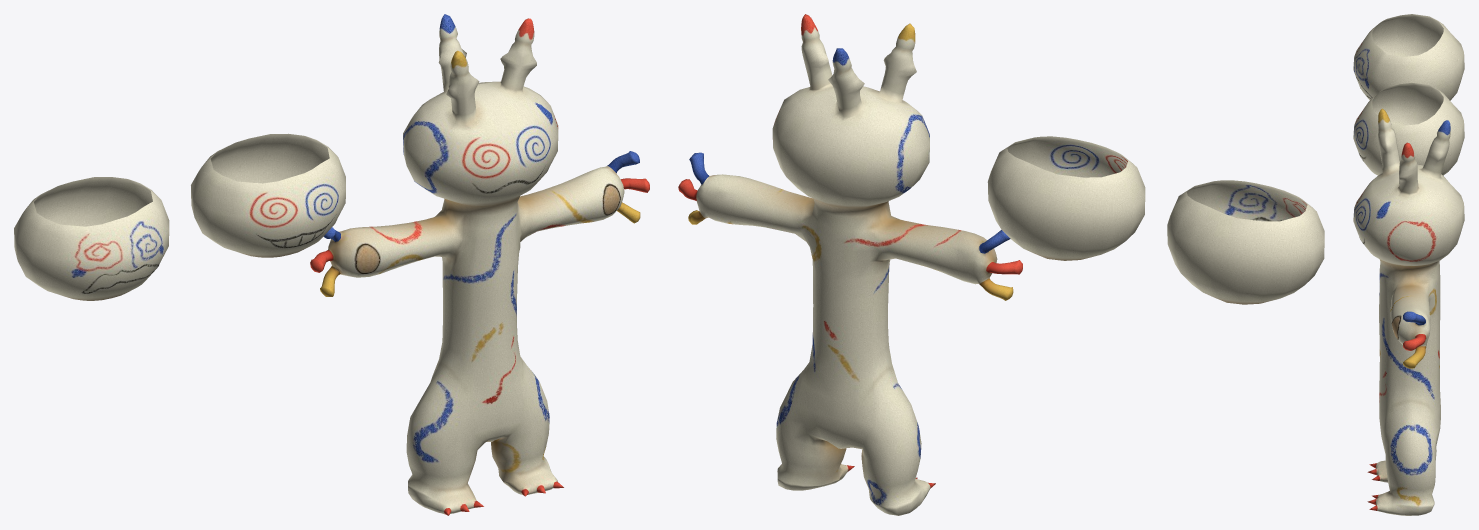
The model's file is xiaobai big _ .fbx.
3 renders of one model, left to right at view 1: azimuth 30°, elevation 25°; view 2: azimuth 150°, elevation 25°; view 3: azimuth 270°, elevation 25°, orthographic. The views are drawn at different scales.
Visible parts, largest first — view 1: bai_B, bai_B2, bai_B1; view 2: bai_B, bai_B2, bai_B1; view 3: bai_B, bai_B2, bai_B1.
Part boxes in pixels (box(x1,y1,x2,y2)): bai_B: box(310, 14, 649, 515); bai_B2: box(14, 177, 169, 300); bai_B1: box(191, 133, 345, 257); bai_B: box(678, 14, 1022, 515); bai_B2: box(1167, 180, 1324, 304); bai_B1: box(987, 136, 1145, 260); bai_B: box(1353, 108, 1464, 515); bai_B2: box(1353, 14, 1464, 100); bai_B1: box(1353, 83, 1464, 175).
Bounding box in the file's own units: 465 × 327 × 89.6.
